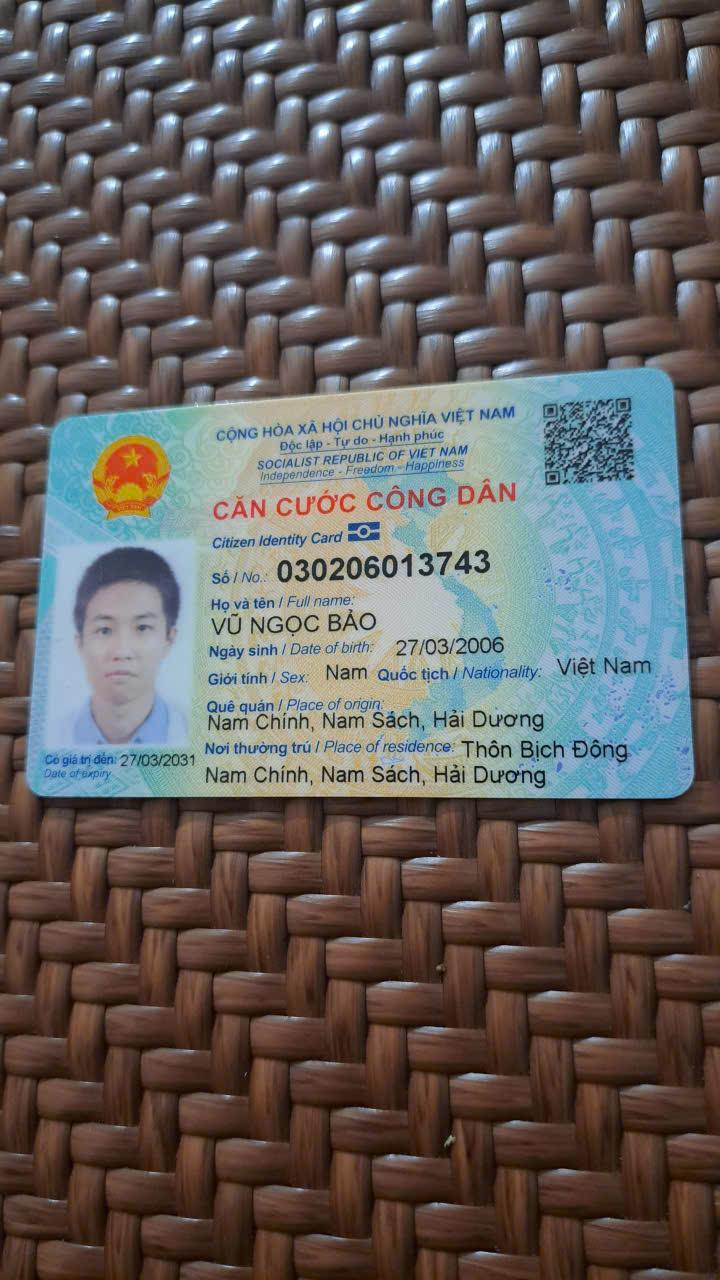cccd: (20, 357, 700, 810)
